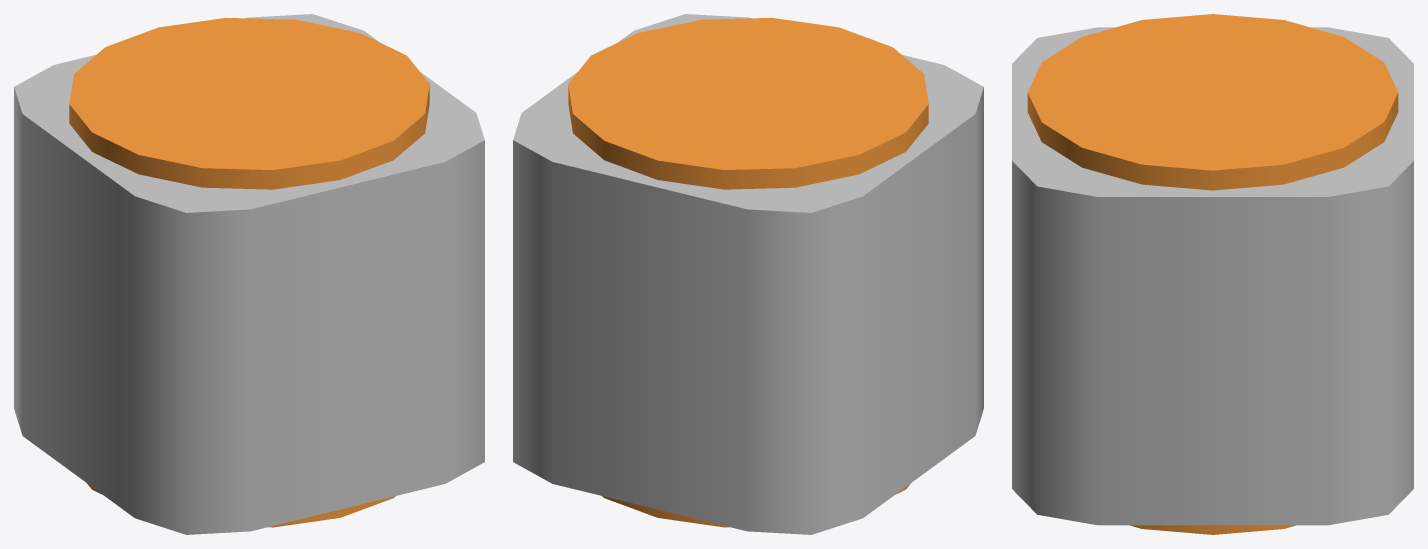
File: Fuel1.fbx
3 renders of one model, left to right at view 1: azimuth 30°, elevation 25°; view 2: azimuth 150°, elevation 25°; view 3: azimuth 270°, elevation 25°, orthographic.
Parts seen in each view (by area): view 1: Block 1x1; view 2: Block 1x1; view 3: Block 1x1.
Boxes of the visible parts, bbox=[...] form: Block 1x1: bbox=[14, 14, 484, 534]; Block 1x1: bbox=[513, 14, 983, 534]; Block 1x1: bbox=[1012, 14, 1413, 534].
Size of the model in its own units: 100 by 100 by 100.
